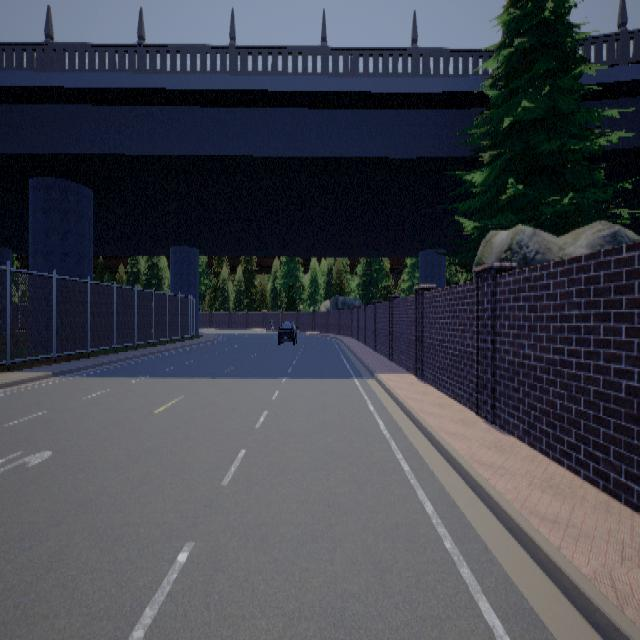vehicle: (275, 315, 297, 349)
